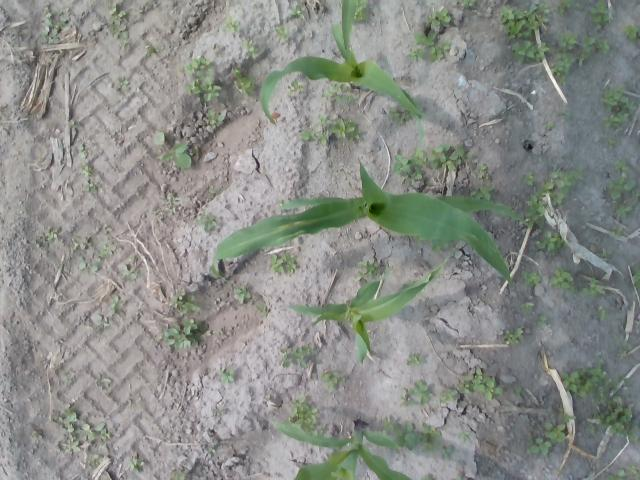Maize: (208, 158, 529, 294), (257, 1, 428, 138), (284, 256, 446, 366), (268, 415, 418, 480)
Weeds: (526, 168, 584, 228), (54, 406, 112, 454), (559, 362, 620, 406), (588, 394, 640, 442), (300, 114, 360, 147), (500, 3, 552, 40), (183, 54, 220, 103), (155, 316, 208, 350), (600, 82, 636, 128), (548, 31, 578, 85), (404, 28, 450, 62), (458, 368, 503, 401), (288, 396, 324, 436), (380, 417, 422, 451), (427, 142, 473, 172), (526, 422, 566, 456), (392, 147, 427, 181), (156, 142, 198, 170), (386, 96, 424, 126), (38, 6, 68, 44), (578, 34, 610, 66), (509, 39, 548, 64), (106, 2, 130, 40), (534, 231, 570, 256), (398, 380, 432, 406), (606, 171, 636, 199), (320, 80, 356, 103), (168, 289, 200, 314), (548, 266, 576, 292), (232, 66, 256, 96), (280, 346, 312, 368), (422, 422, 442, 454), (268, 252, 296, 274), (156, 192, 181, 216), (589, 0, 610, 28), (604, 464, 640, 480), (580, 278, 606, 300), (322, 370, 346, 392), (195, 210, 218, 232), (426, 7, 452, 26), (202, 109, 225, 130), (469, 183, 494, 202), (551, 406, 577, 424), (356, 260, 378, 280), (520, 268, 542, 286), (354, 0, 371, 23), (620, 23, 640, 42), (232, 284, 252, 302), (220, 16, 240, 34), (504, 328, 524, 346), (436, 386, 456, 404), (109, 294, 125, 316), (242, 38, 258, 59), (78, 258, 102, 272), (286, 80, 304, 98), (474, 163, 491, 180), (614, 202, 632, 218), (145, 41, 165, 55), (555, 0, 575, 14), (593, 305, 610, 321), (218, 368, 235, 384), (288, 5, 306, 20), (592, 246, 614, 258), (96, 243, 116, 256), (340, 168, 353, 188), (618, 340, 634, 356), (96, 314, 110, 332), (123, 268, 141, 282), (274, 25, 290, 40), (84, 182, 102, 195), (630, 267, 640, 290), (127, 458, 143, 472), (520, 170, 534, 184), (520, 300, 534, 314), (116, 76, 130, 90), (254, 301, 270, 313), (153, 130, 165, 146), (406, 354, 422, 366), (442, 445, 454, 461), (169, 469, 185, 480), (44, 228, 58, 240), (78, 165, 92, 177), (614, 159, 628, 171), (605, 136, 619, 147), (70, 236, 80, 251), (609, 226, 624, 236), (510, 385, 522, 397), (620, 372, 632, 384), (457, 431, 470, 442), (276, 198, 290, 208), (78, 144, 87, 159), (457, 0, 476, 7), (542, 120, 554, 131), (537, 314, 548, 326), (558, 108, 571, 118), (102, 224, 113, 235), (90, 454, 102, 464), (631, 190, 640, 202), (102, 376, 114, 384), (420, 476, 440, 480), (130, 253, 138, 262), (206, 447, 216, 453), (36, 433, 44, 440), (454, 475, 464, 480), (210, 188, 219, 193), (213, 409, 219, 413)
